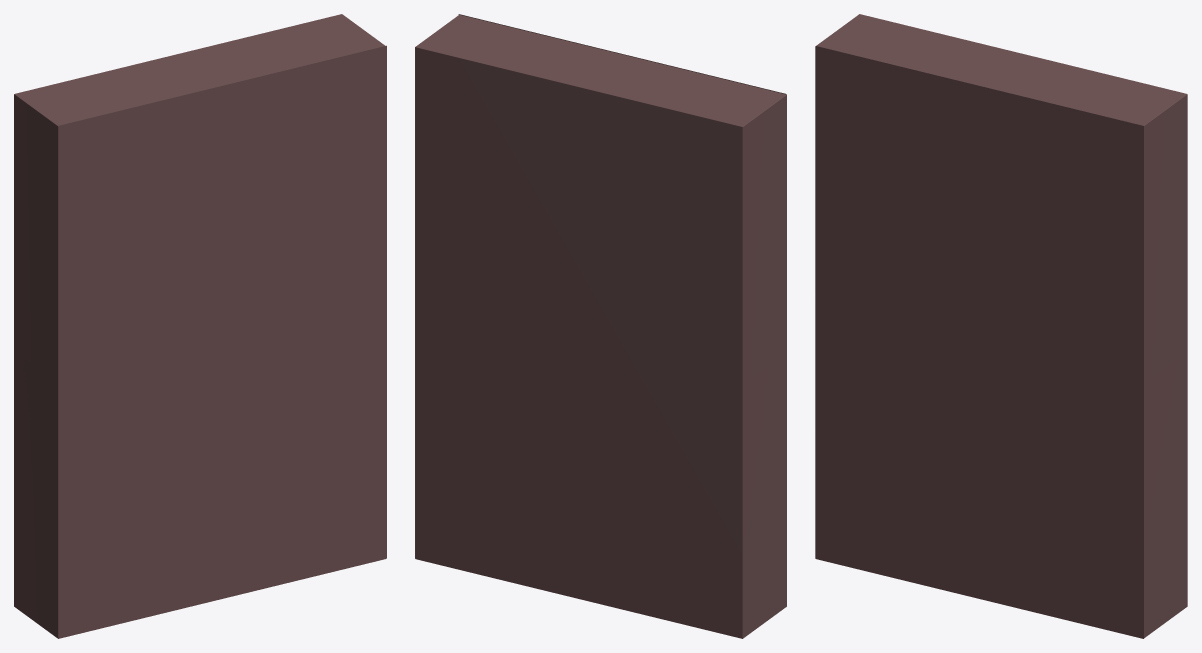
The model's file is small_walls.fbx.
The picture shows the model from 3 angles, left to right: view 1: azimuth 30°, elevation 25°; view 2: azimuth 150°, elevation 25°; view 3: azimuth 330°, elevation 25°; orthographic projection.
Visible parts, largest first — view 1: small_wall_plane, small_wall_full, small_wall_half; view 2: small_wall_full, small_wall_half; view 3: small_wall_plane, small_wall_full, small_wall_half.
Boxes of the visible parts, box(x1,y1,x2,y2) form: small_wall_plane: box(58, 45, 386, 638); small_wall_full: box(14, 14, 385, 638); small_wall_half: box(14, 351, 58, 638); small_wall_full: box(415, 15, 786, 638); small_wall_half: box(415, 303, 786, 638); small_wall_plane: box(815, 46, 1143, 638); small_wall_full: box(815, 14, 1187, 561); small_wall_half: box(815, 303, 1187, 638).
Size of the model in its own units: 250 by 374 by 58.41.
